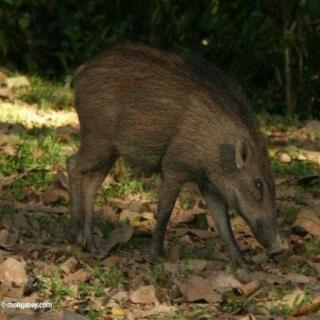Pig: (56, 37, 283, 262)
